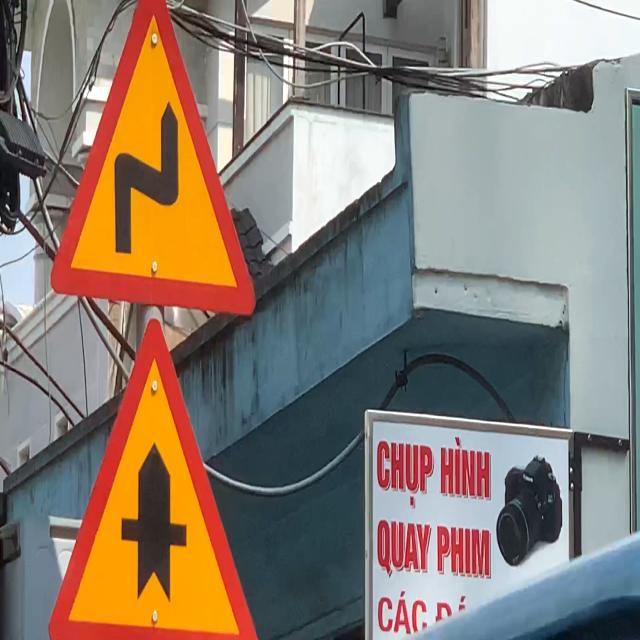W.202b: (48, 0, 258, 321)
W.207a: (45, 313, 264, 640)
